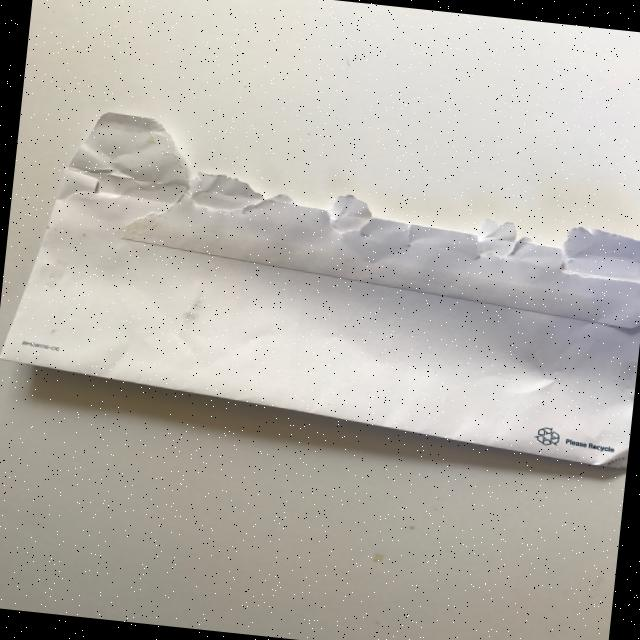paper: (0, 102, 640, 469)
